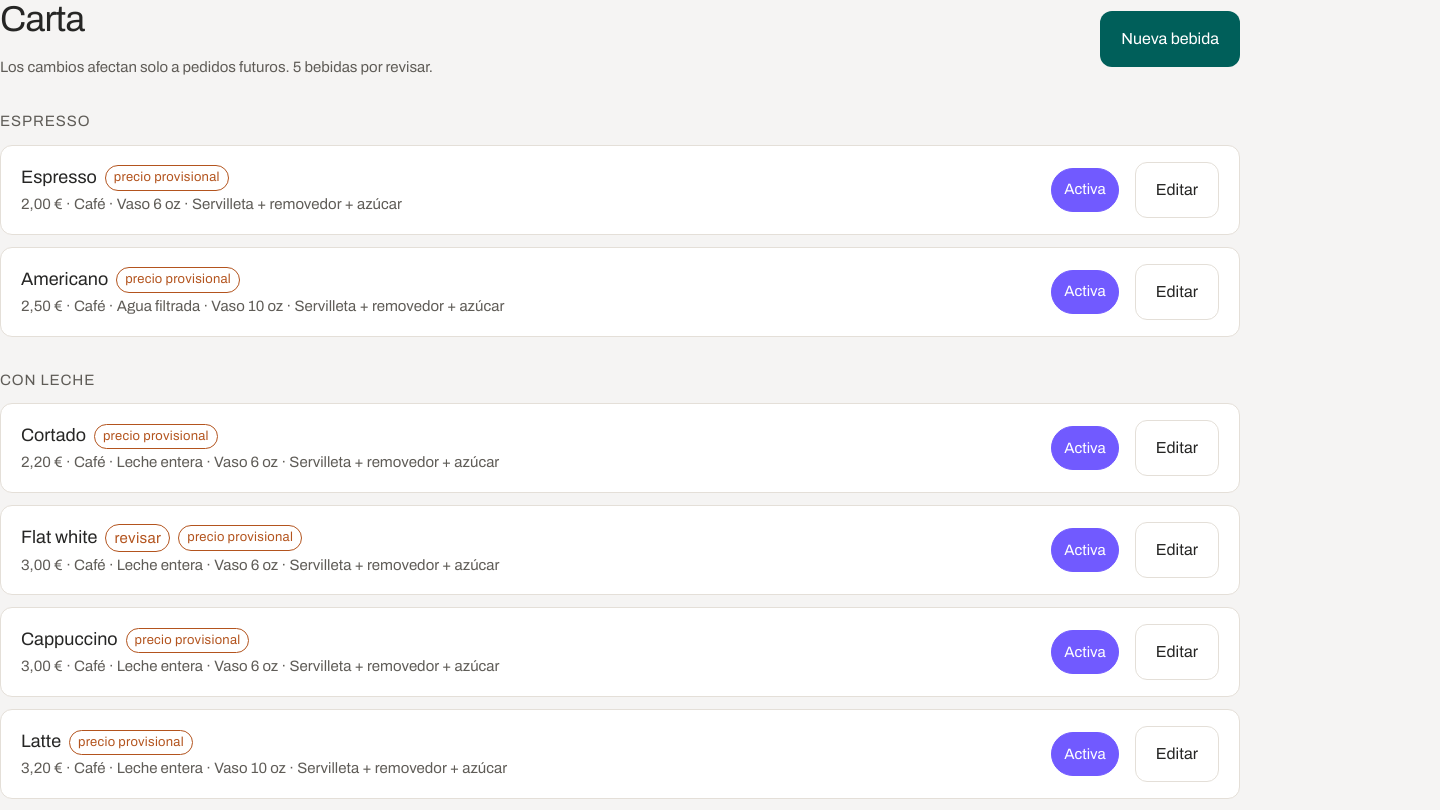
it: Carta: el bloque «Preparación» › el Flat white avisa de que no cabe en su vaso, y ese aviso no tiene arreglo
Check: the heading "Carta" is shown, box x1=0 y1=0 x2=84 y2=39
Step 1. Click the button "Editar" in the row of "Flat white" → (1177, 550), box x1=1135 y1=522 x2=1219 y2=578
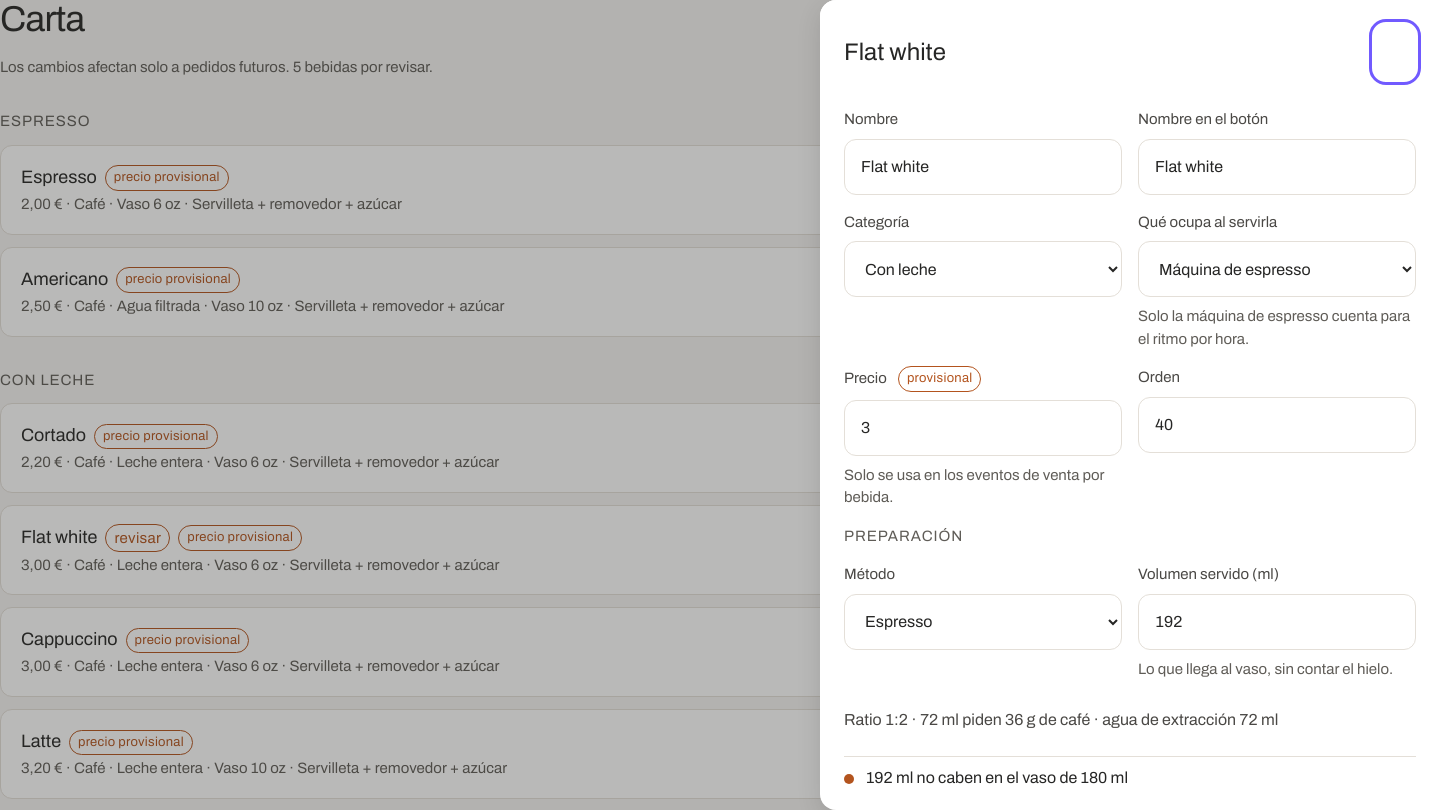
Check: the heading "Preparación" is shown, box x1=844 y1=528 x2=963 y2=544
